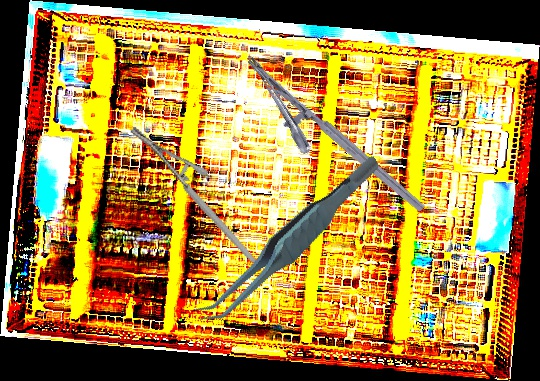Needle Holder: (226, 55, 426, 237), (127, 101, 258, 289)
Tissue Forceps: (171, 154, 407, 329)
